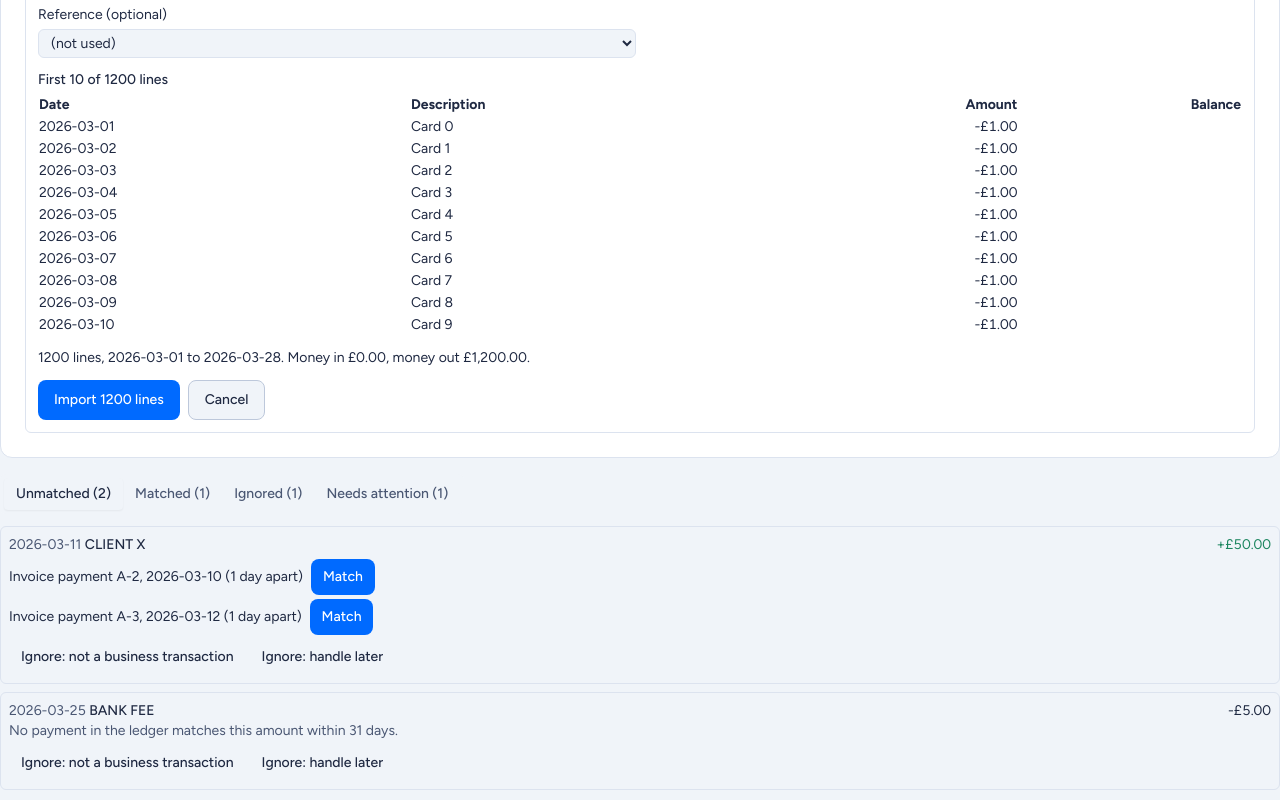
Test case: Bank: import a statement › a large file goes in chunks of 500; counts add up; a re-imported file is flagged
Earlier steps of the test are not shown.
(page scrolled)
Step 1. Click the button "Import 1200 lines" → (109, 400), box x1=38 y1=380 x2=180 y2=420
(page scrolled)
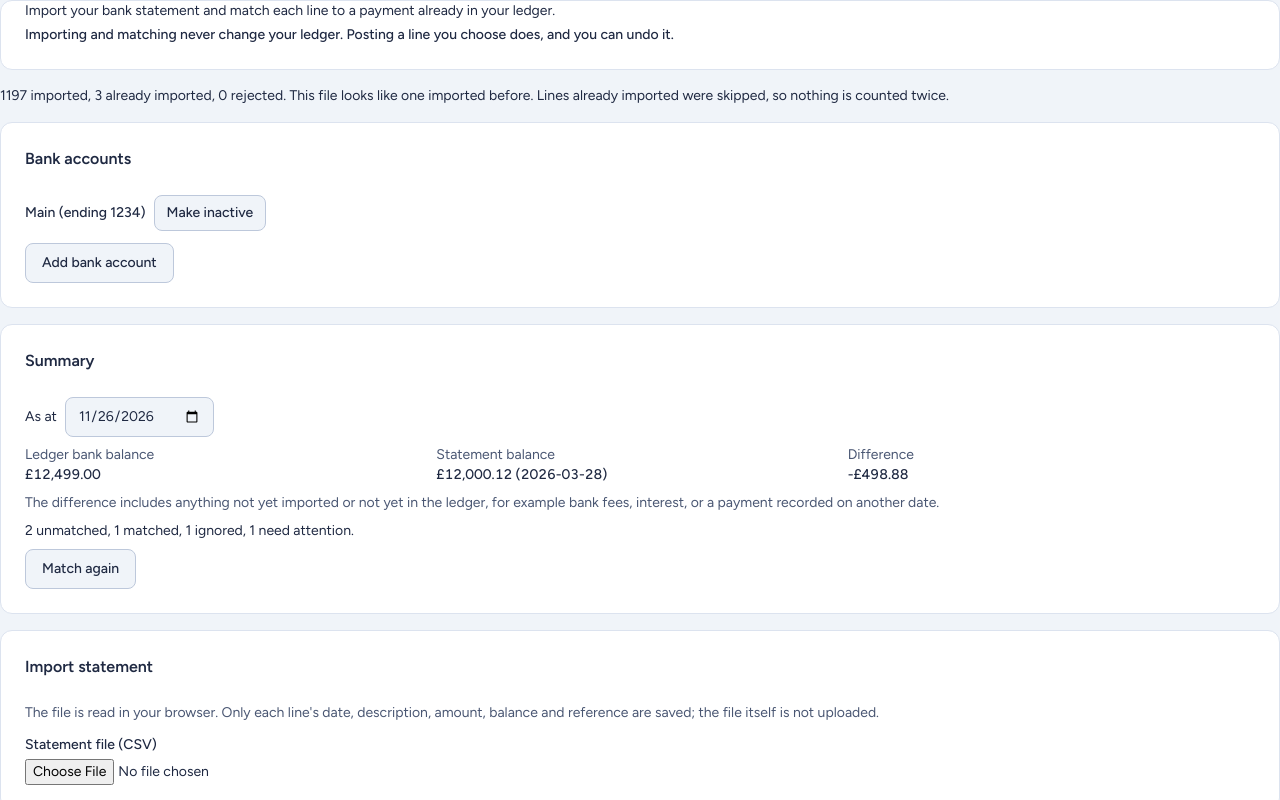
Now the message with test id "bank-message" shows "1197 imported, 3 already imported, 0 rejected.", box x1=0 y1=87 x2=949 y2=104
Now the message with test id "bank-message" shows "This file looks like one imported before.", box x1=0 y1=87 x2=949 y2=104
